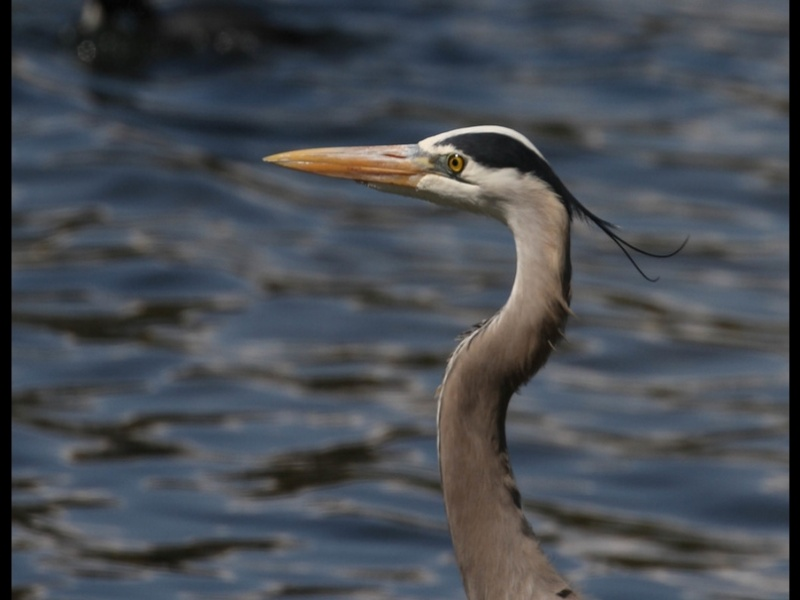heron: (258, 122, 686, 597)
